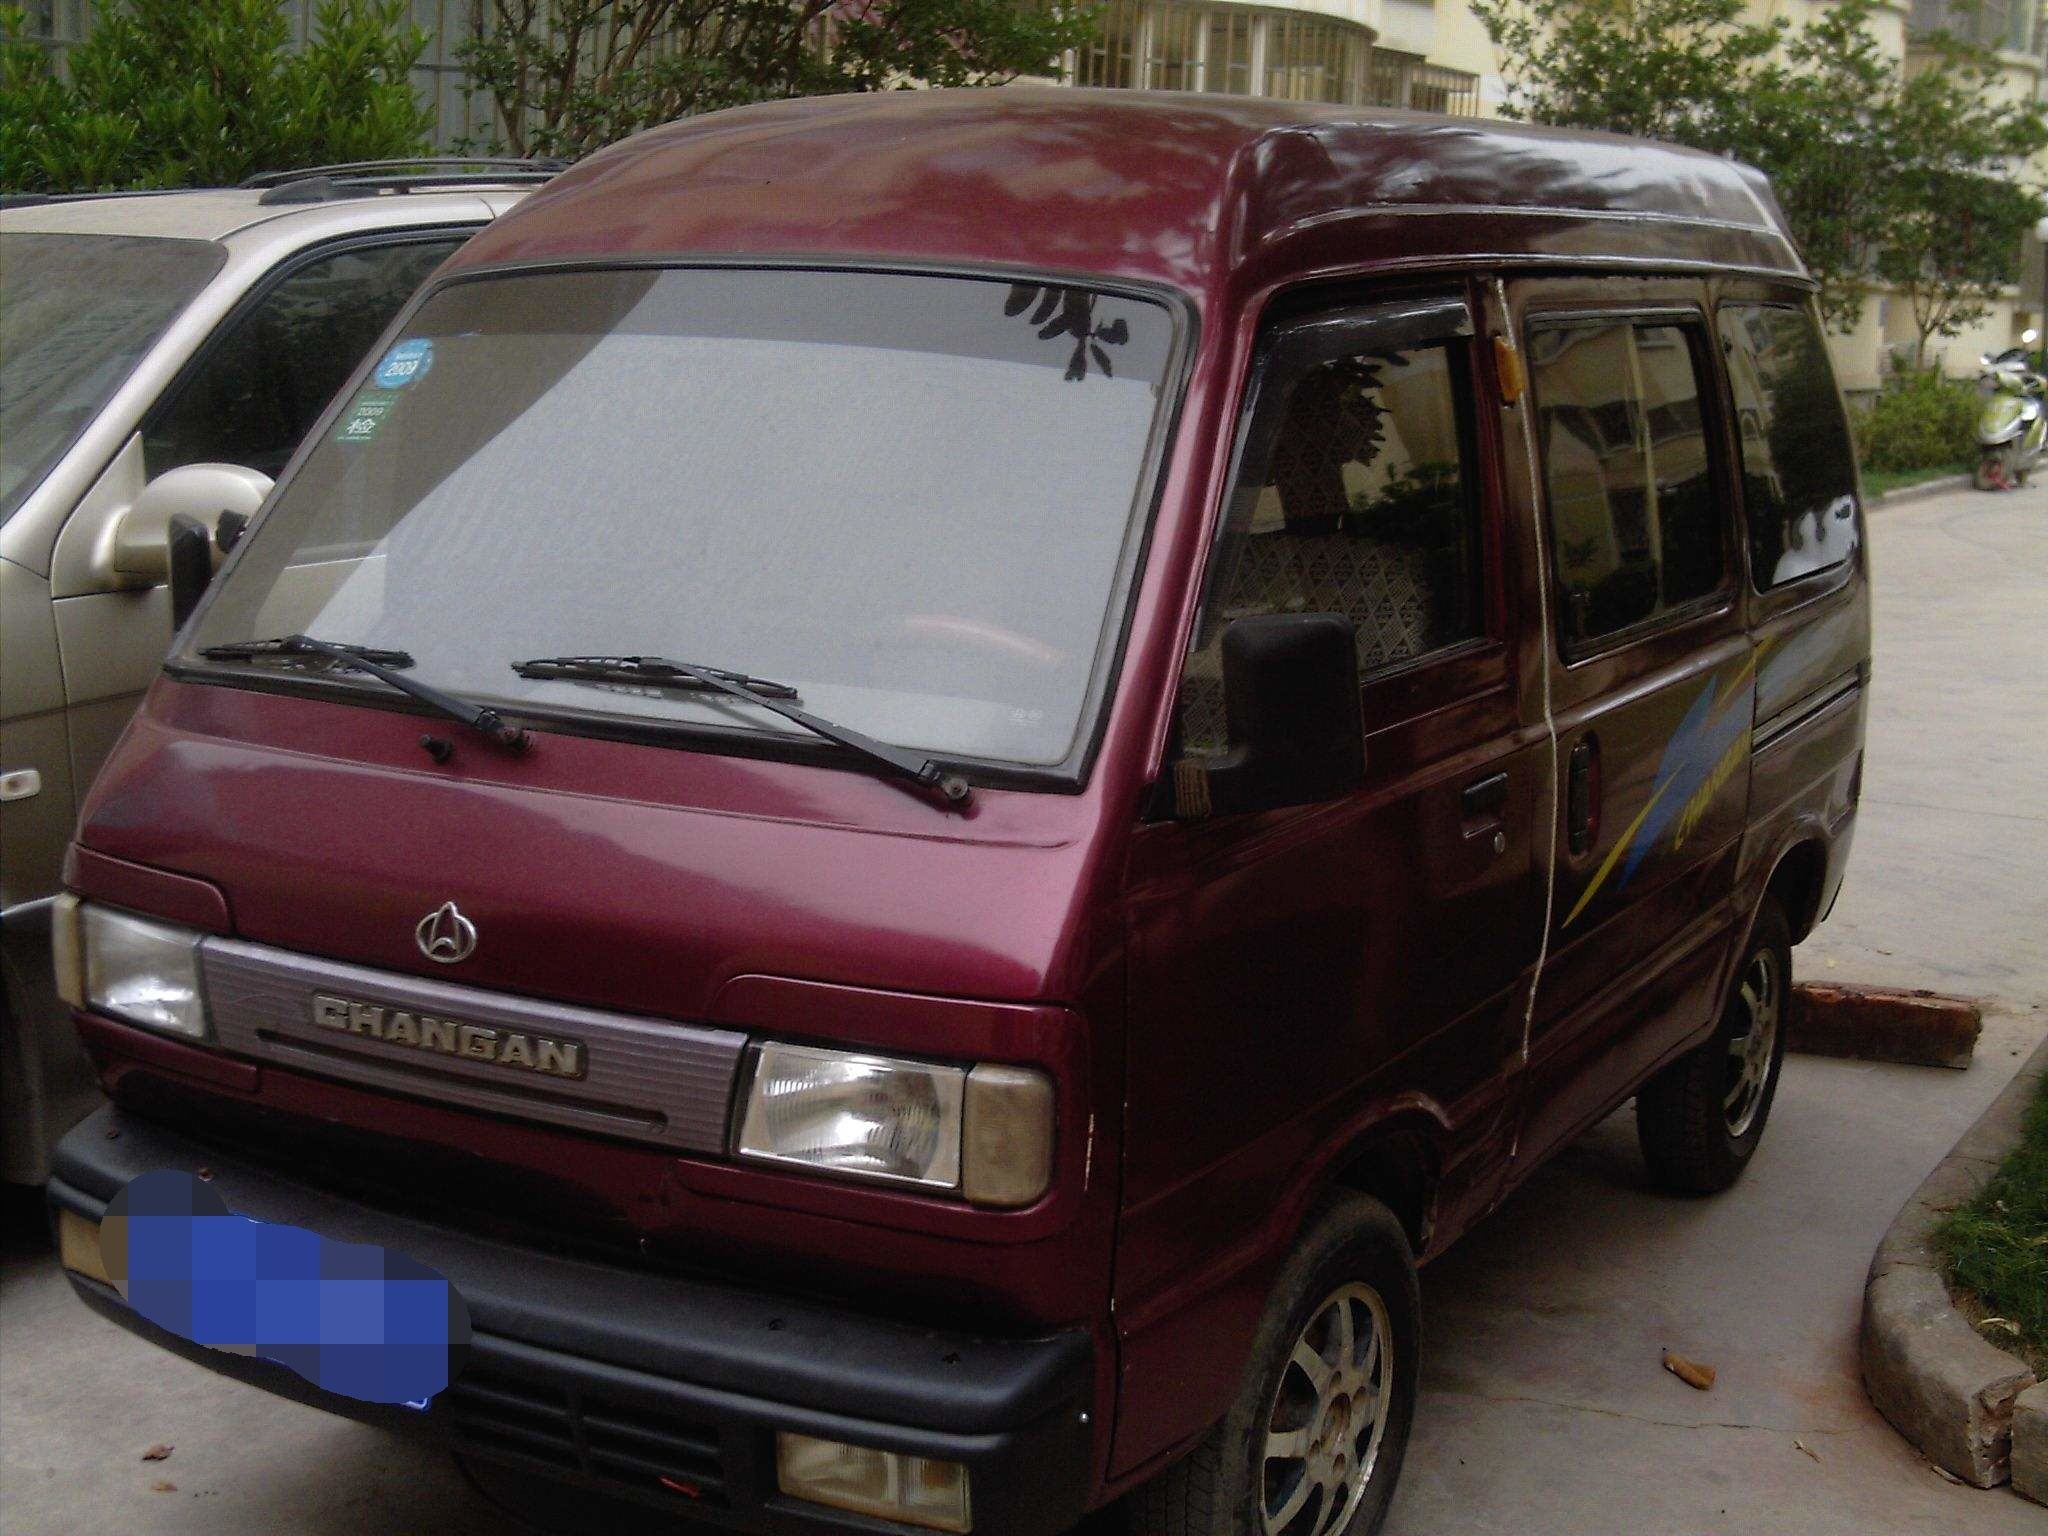minibus: (85, 65, 1892, 1518)
